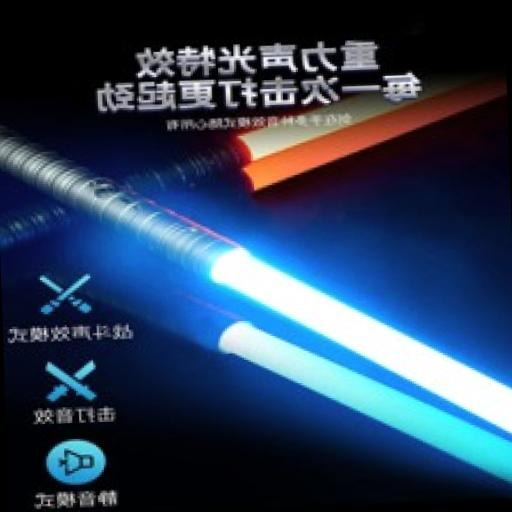lightsaber: (0, 104, 512, 458)
sith saber: (0, 62, 509, 265)
